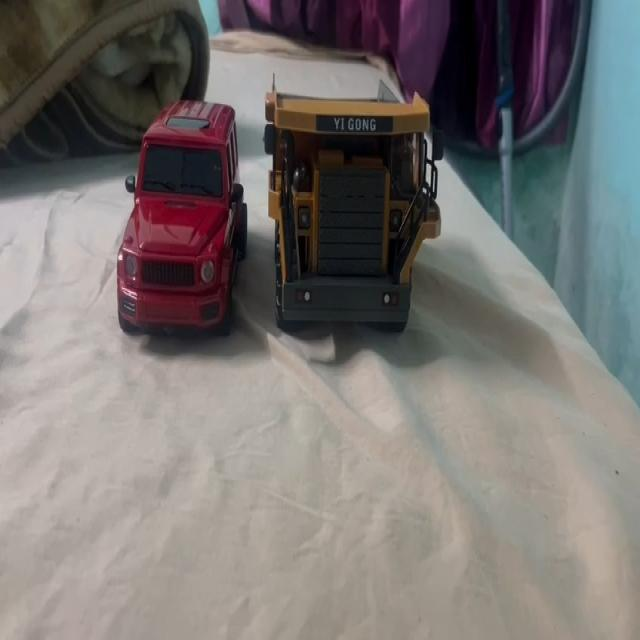dump_truck: (263, 82, 432, 337)
light_vehicle: (113, 96, 242, 330)
